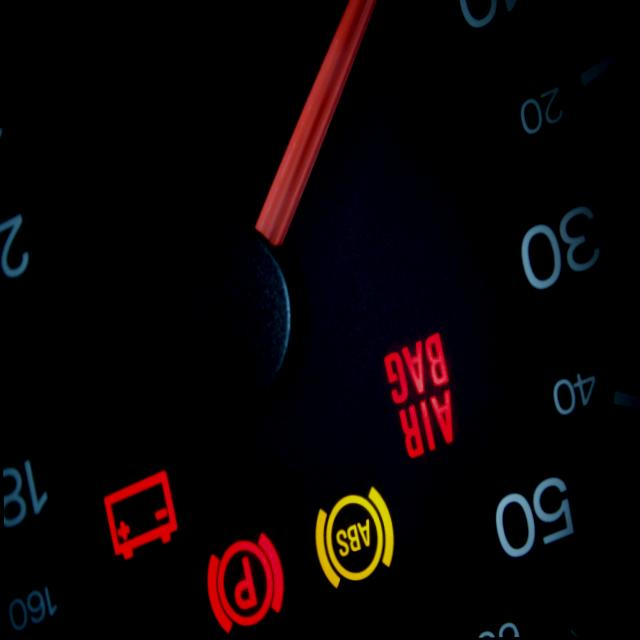kontrolka: (368, 315, 465, 478), (306, 476, 401, 604), (198, 534, 286, 638), (96, 466, 184, 564)
